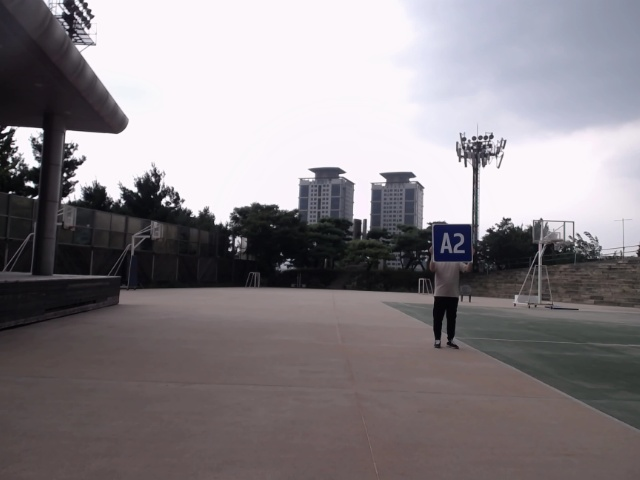delivery_a2: (433, 224, 473, 262)
